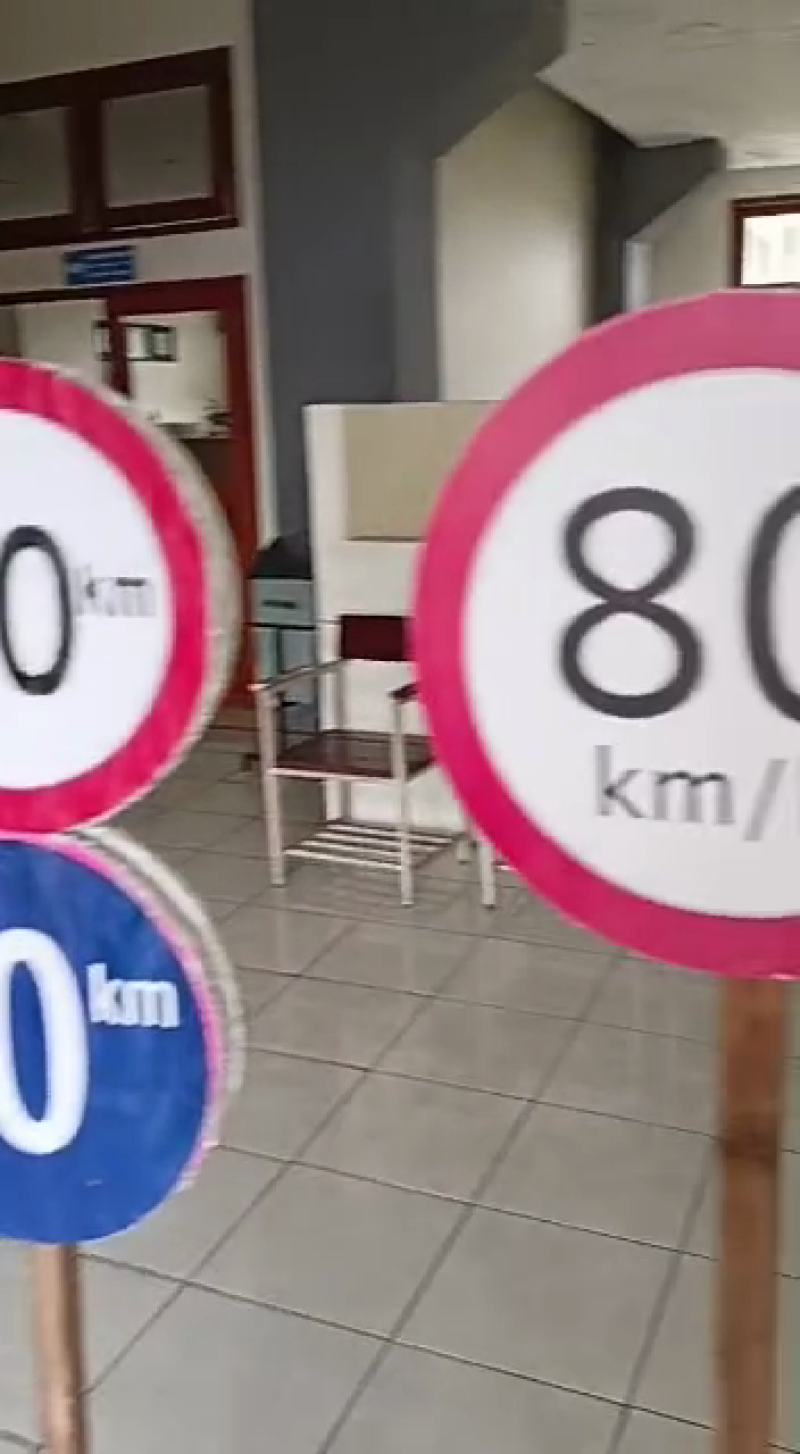batas maksimal 80kmperjam: (398, 240, 800, 992)
